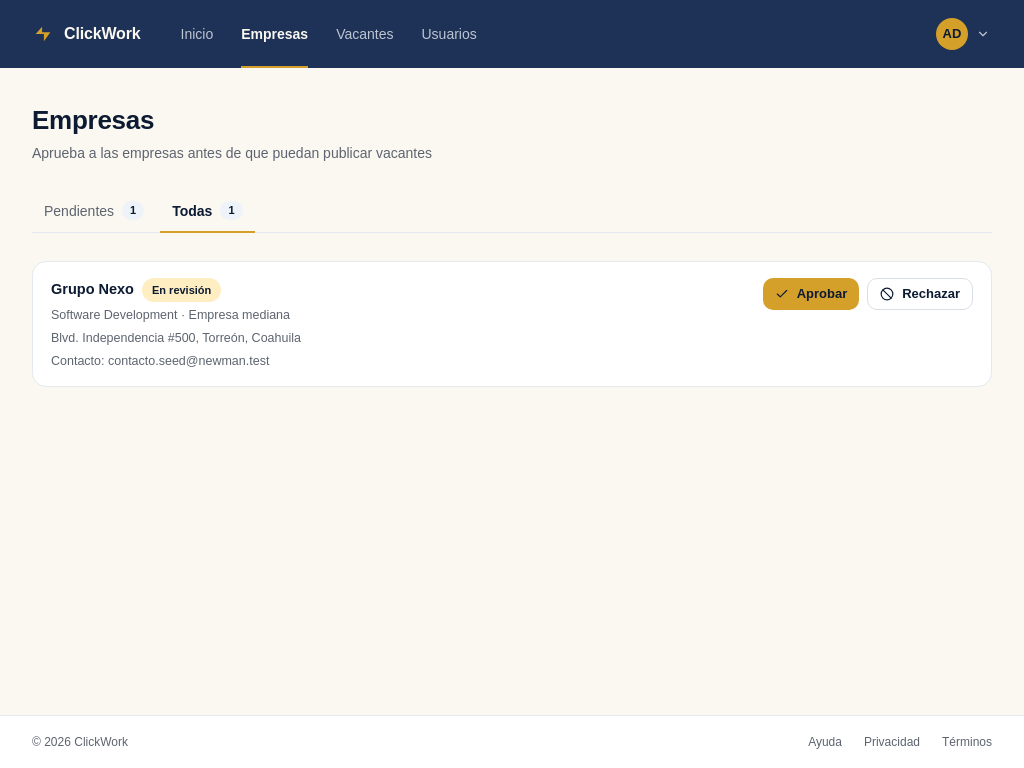
Test: AdminCompaniesPage › rejecting asks for a reason and sends it
Click the button with aria-label "Rechazar Grupo Nexo": (920, 294) [867,278,973,310]
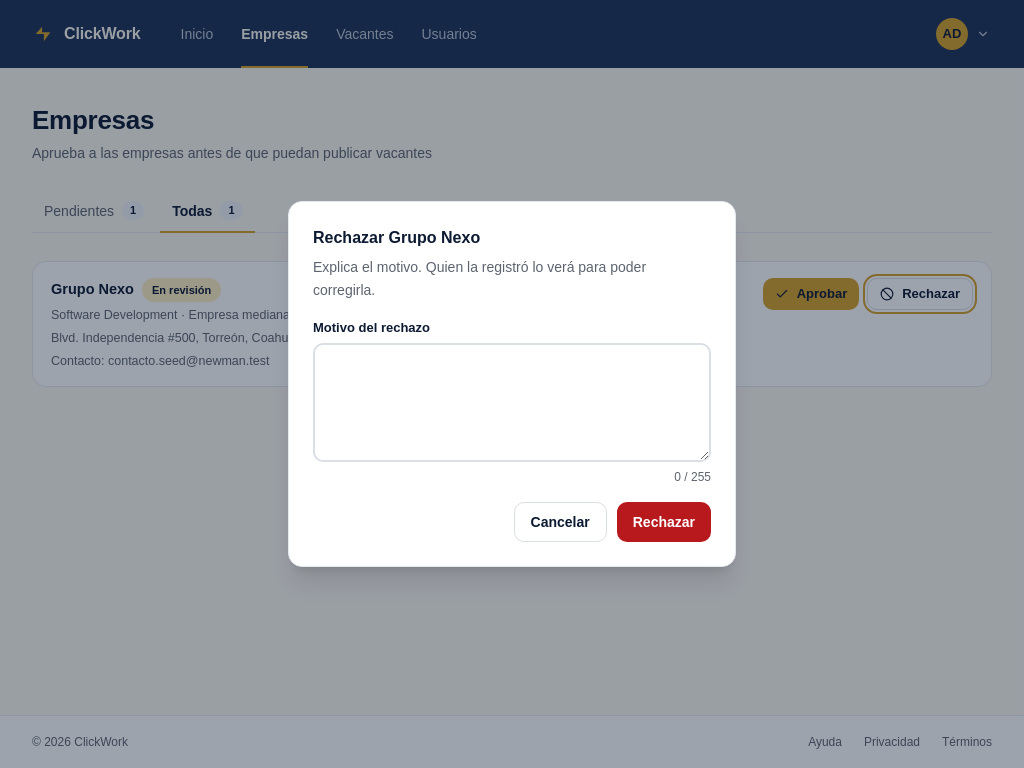
// Without a reason nothing is sent.
Click the button "Rechazar": (664, 522) [617,502,711,542]
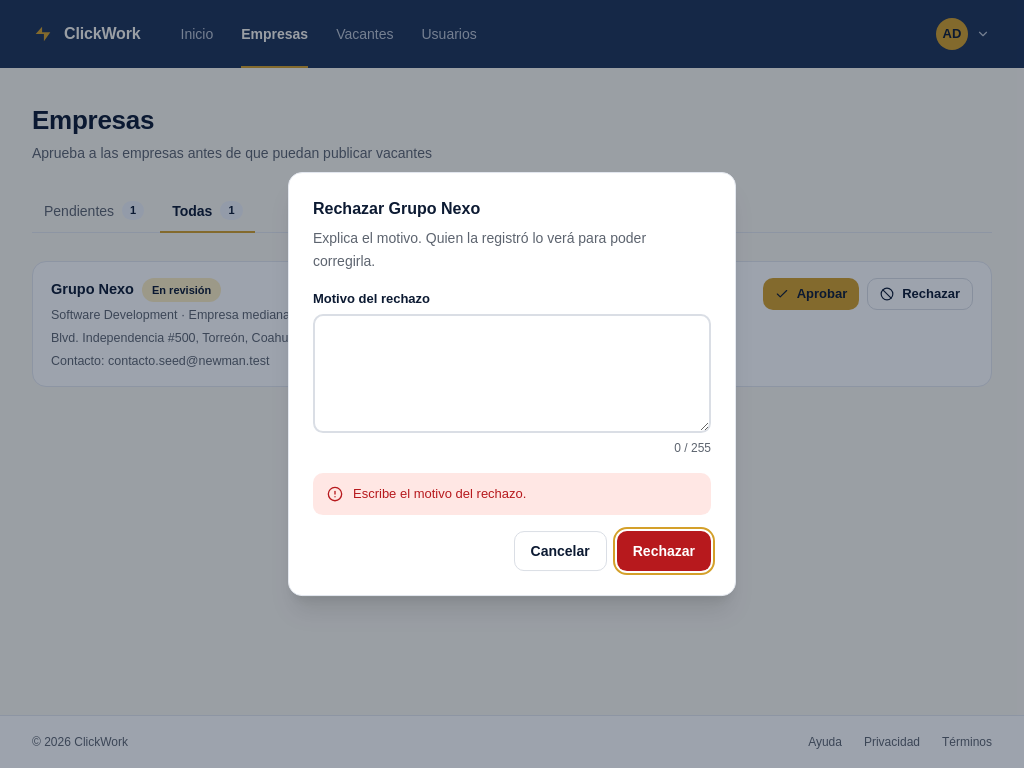
Now the message reads "Escribe el motivo del rechazo.", box [353,486,526,501]
In the text box labelled "Motivo del rechazo": (512, 374) [313,314,711,433], type "Datos incompletos"
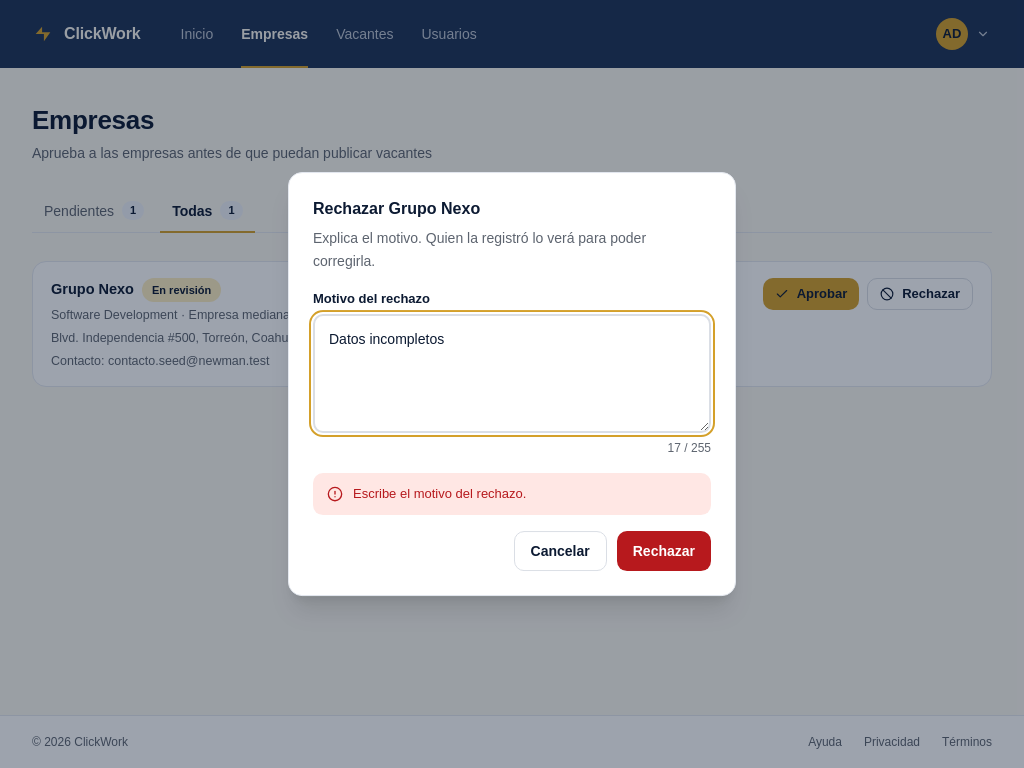
Click the button "Rechazar": (664, 551) [617,531,711,571]
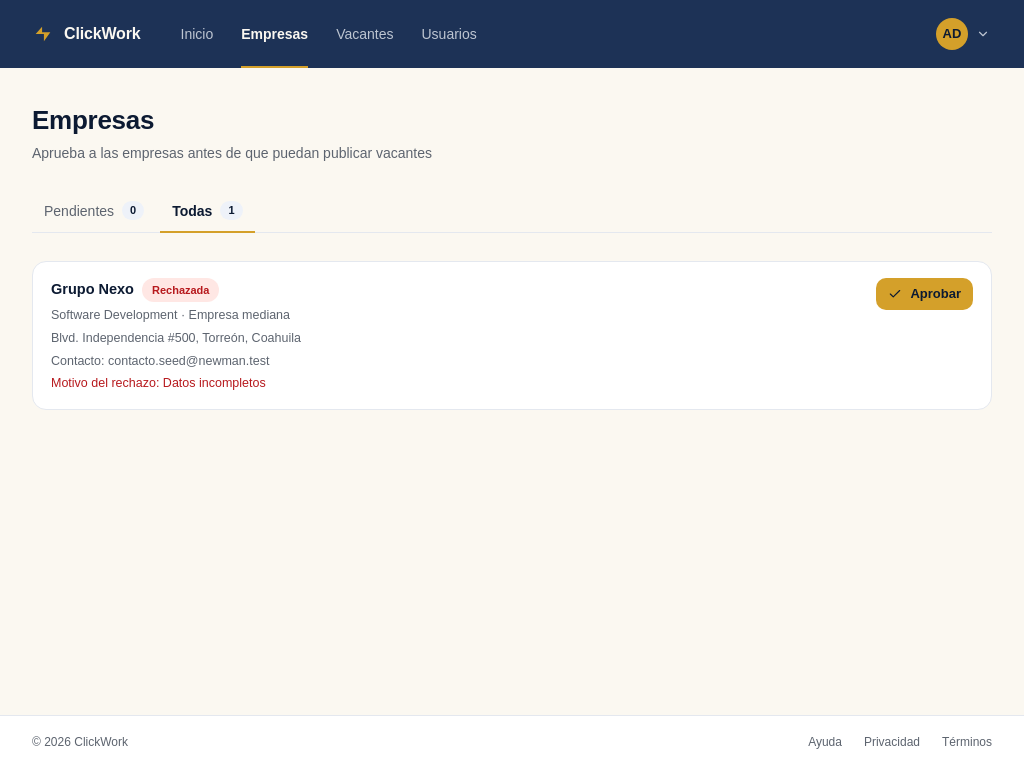
Expected: the button with aria-label "Aprobar Grupo Nexo" is shown, [876,278,973,310]
Now the text "Motivo del rechazo: Datos incompletos" is shown, box [51,376,266,390]
Now the heading "Rechazar Grupo Nexo" is gone
